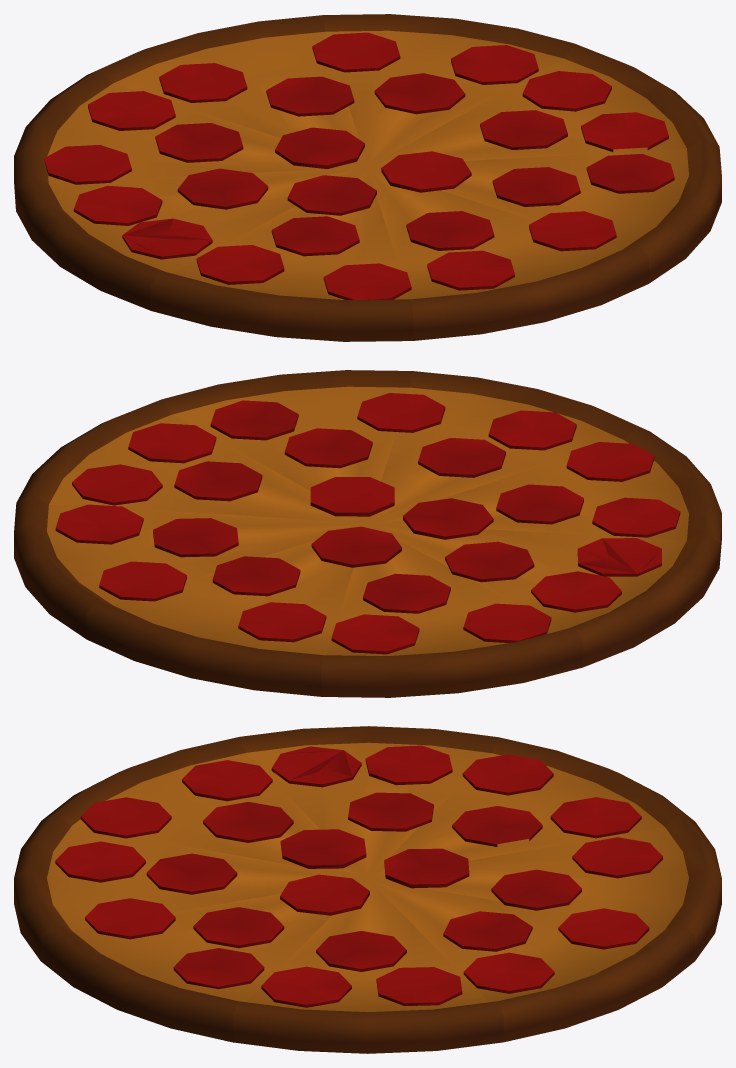
File: Pizza_Regular.fbx
3 views of the same model, one above another, from view 1: azimuth 30°, elevation 25°; view 2: azimuth 150°, elevation 25°; view 3: azimuth 270°, elevation 25° (orthographic).
Parts seen in each view (by area): view 1: Pizza_Regular; view 2: Pizza_Regular; view 3: Pizza_Regular.
Part boxes in pixels (x1,y1,x2,y2): Pizza_Regular: [14, 14, 721, 341]; Pizza_Regular: [14, 370, 721, 697]; Pizza_Regular: [14, 726, 721, 1053].
Size of the model in its own units: 98.32 by 5.38 by 98.32.
